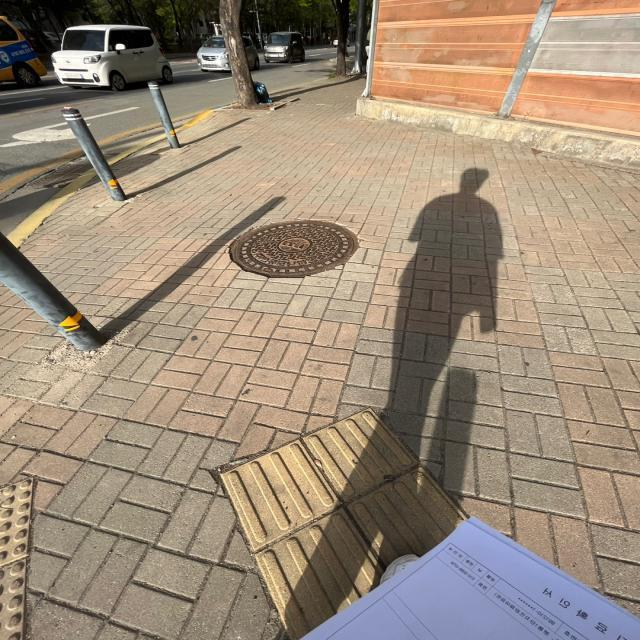Sewer Cover: (223, 214, 365, 289)
